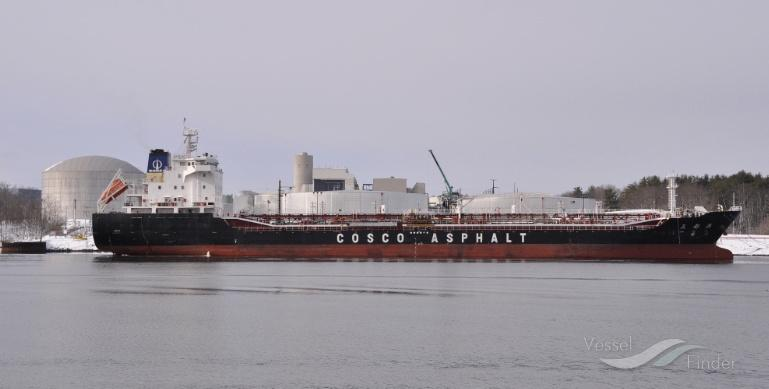OCR: (329, 229, 534, 250)
